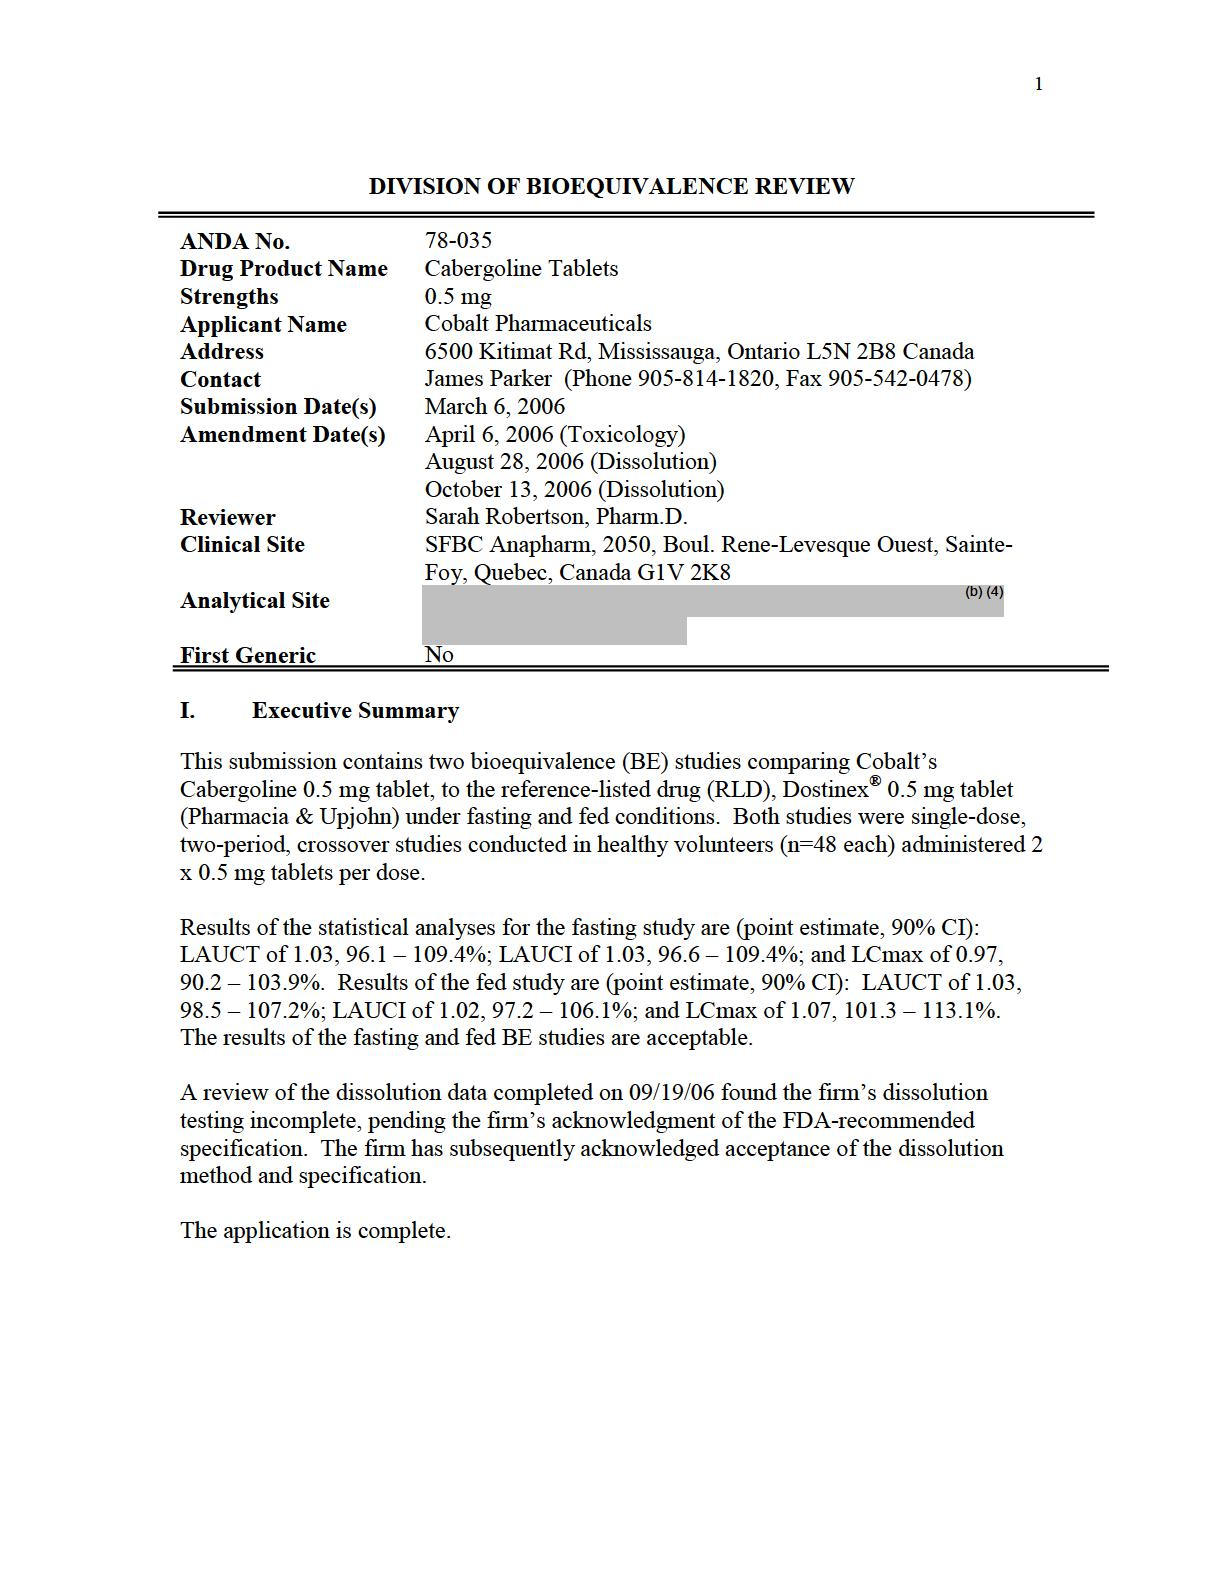partial_lined: (156, 210, 1110, 672)
